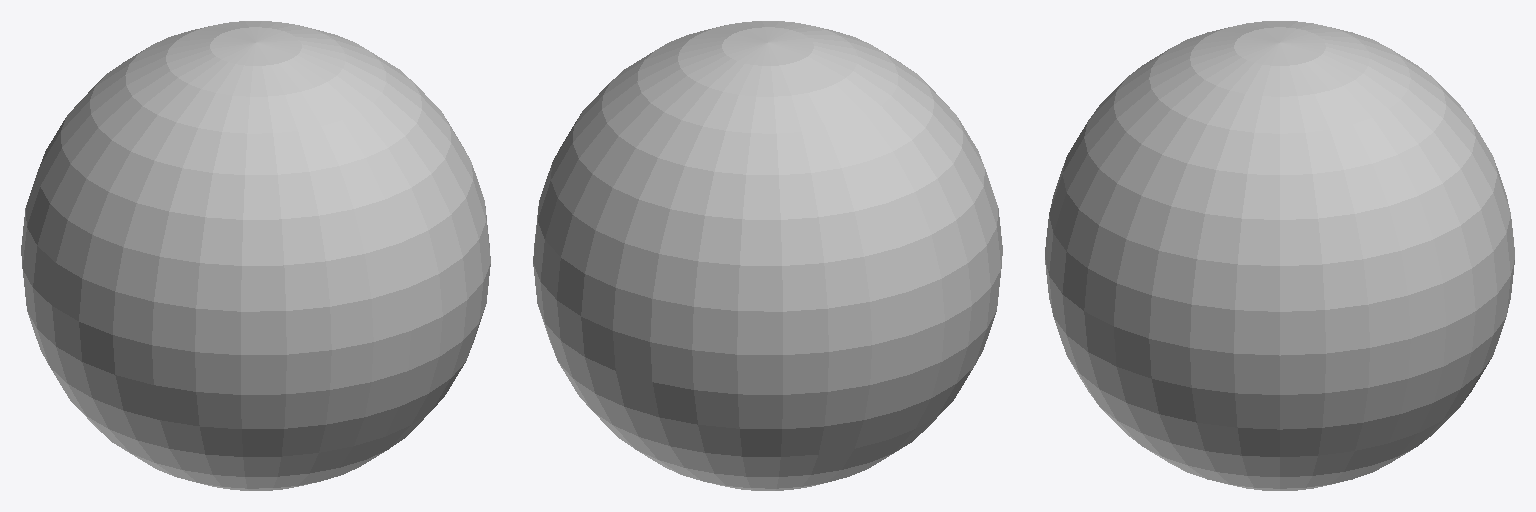
The model's file is large-sphere.obj.
The picture shows the model from 3 angles: view 1: azimuth 30°, elevation 25°; view 2: azimuth 150°, elevation 25°; view 3: azimuth 270°, elevation 25°; orthographic projection.
Parts seen in each view (by area): view 1: Sphere; view 2: Sphere; view 3: Sphere.
Part boxes in pixels (left/top/right/bottom): Sphere: left=21, top=21, right=490, bottom=490; Sphere: left=533, top=21, right=1002, bottom=490; Sphere: left=1045, top=21, right=1514, bottom=490.
Bounding box in the file's own units: 1.26 × 1.26 × 1.26.